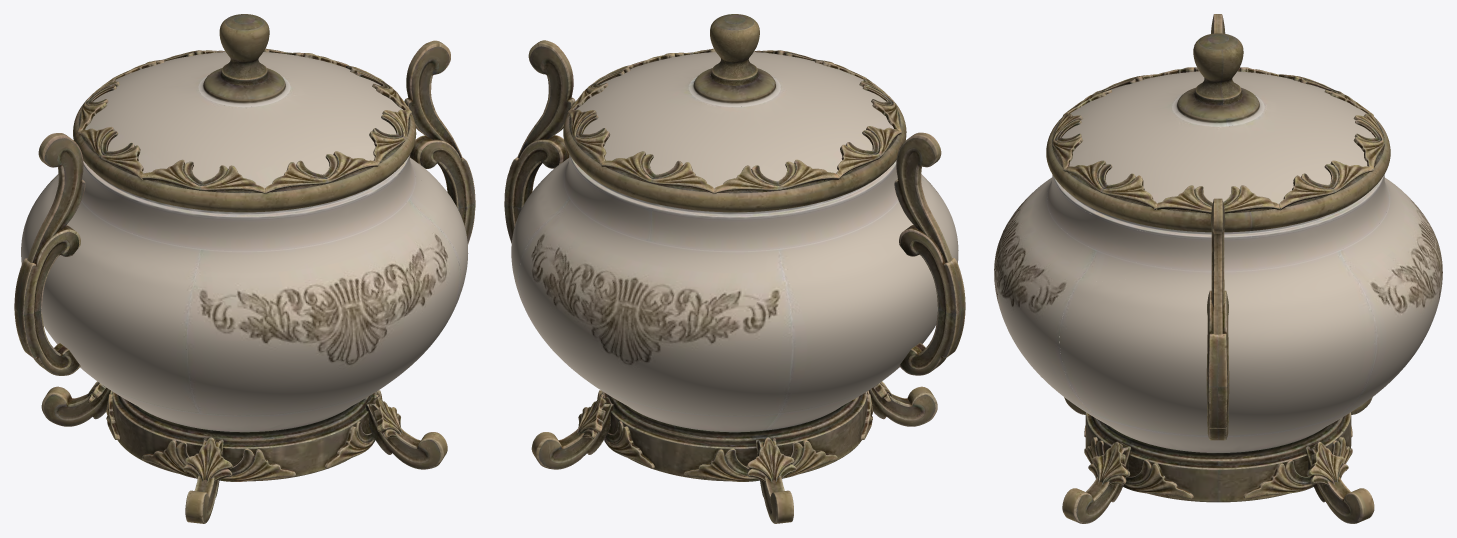
The model's file is 静物_瓶罐_vases_opt_split_std_opt.glb.
3 renders of one model, left to right at view 1: azimuth 30°, elevation 25°; view 2: azimuth 150°, elevation 25°; view 3: azimuth 270°, elevation 25°, orthographic.
Parts seen in each view (by area): view 1: mesh_0, mesh_42; view 2: mesh_0, mesh_42; view 3: mesh_0, mesh_42.
Boxes of the visible parts, left/top/right/bottom form: mesh_0: left=21, top=14, right=468, bottom=481; mesh_42: left=14, top=40, right=475, bottom=523; mesh_0: left=511, top=14, right=958, bottom=481; mesh_42: left=504, top=40, right=965, bottom=523; mesh_0: left=994, top=33, right=1442, bottom=502; mesh_42: left=1052, top=14, right=1384, bottom=523.
Size of the model in its own units: 0.3338 by 0.3 by 0.2856.
Materials: 2 (2 with a texture image).
